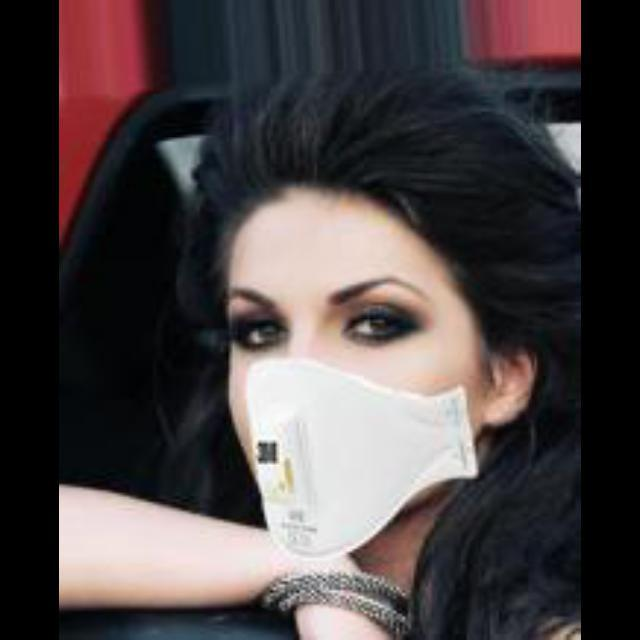suspicion: (142, 146, 530, 552)
